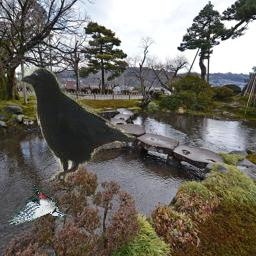Crow: (16, 64, 134, 183)
Woodpecker: (5, 185, 69, 226)
